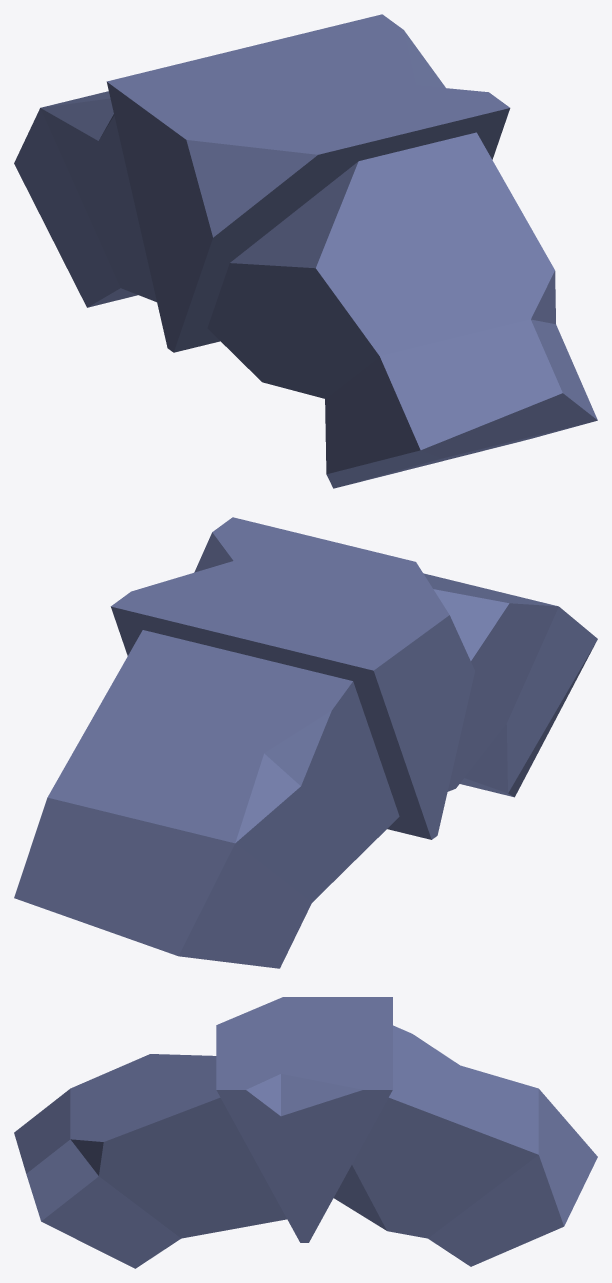
The model's file is arch_2_dstr_2.fbx.
3 renders of one model, top to bottom at view 1: azimuth 30°, elevation 25°; view 2: azimuth 150°, elevation 25°; view 3: azimuth 270°, elevation 25°, orthographic. The views are drawn at different scales.
Visible parts, largest first — view 1: arch_2_dstr_2; view 2: arch_2_dstr_2; view 3: arch_2_dstr_2.
Boxes of the visible parts, x1,y1,x2,y2 form: arch_2_dstr_2: (14,14,597,488); arch_2_dstr_2: (14,517,597,968); arch_2_dstr_2: (14,997,597,1268).
Bounding box in the file's own units: 2 × 1.94 × 5.33.
